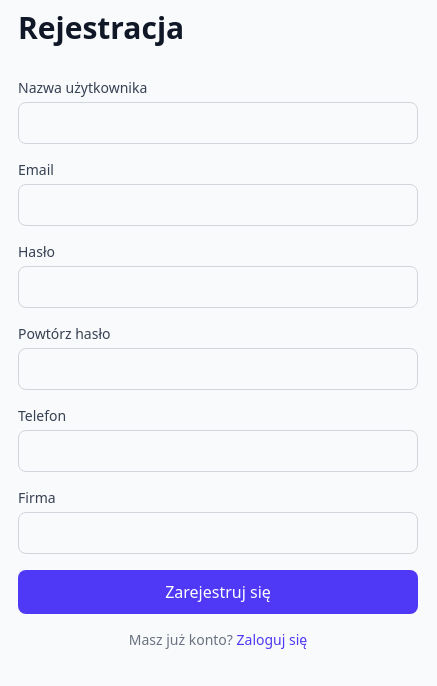
RegisterPage — interactions › shows field error from API
In the field labelled "Nazwa użytkownika": (218, 123) [18,102,418,144], type "existing"
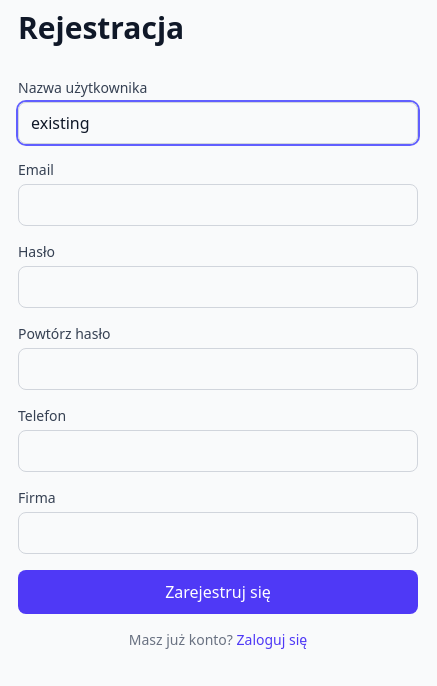
In the field labelled "Email": (218, 205) [18,184,418,226], type "x@x.pl"
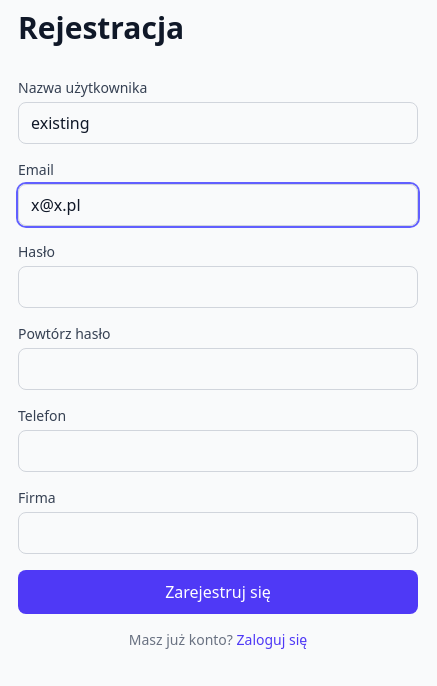
In the password field labelled "Hasło": (218, 287) [18,266,418,308], type "Pass123!"
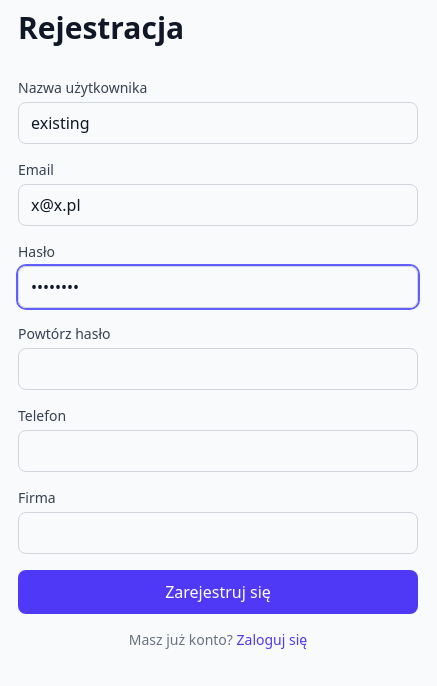
In the password field labelled "Powtórz hasło": (218, 369) [18,348,418,390], type "Pass123!"
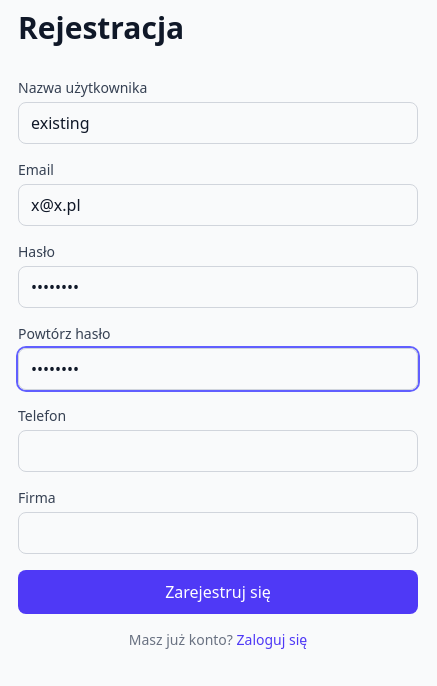
Click the button "Zarejestruj się": (218, 592) [18,570,418,614]
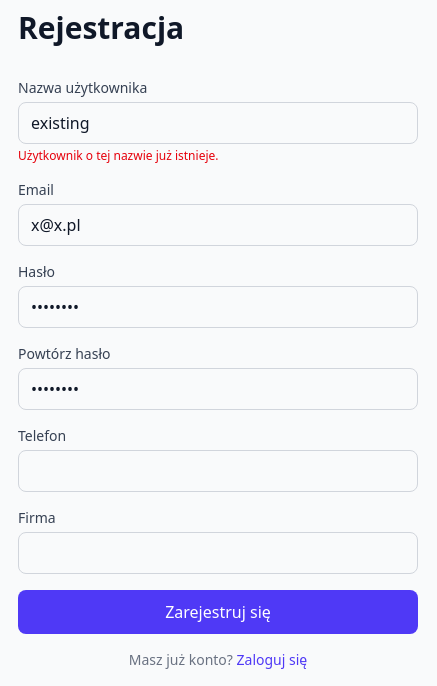
expect the text "Użytkownik o tej nazwie już istnieje." is shown: met, box [18,147,218,164]
